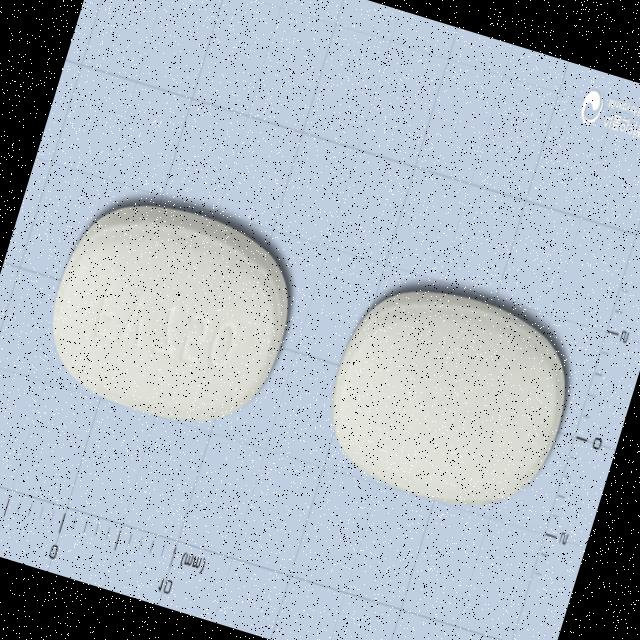Famvir: (29, 180, 310, 446), (310, 267, 588, 531)
